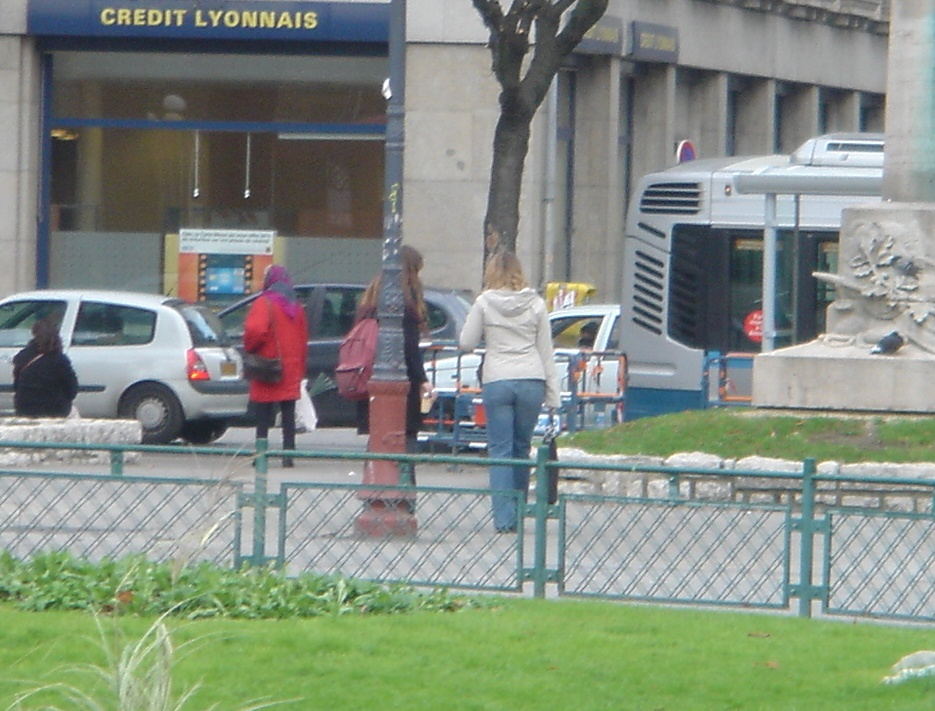person: (465, 247, 555, 530), (245, 259, 304, 469)
